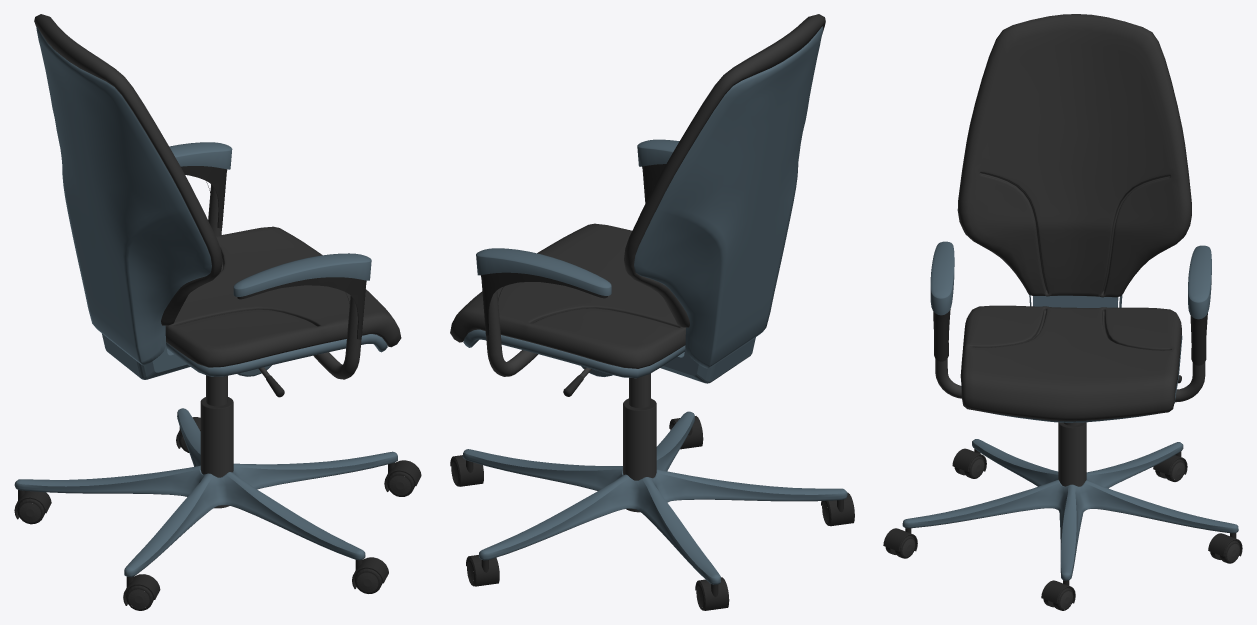
File: chair4.glb
The picture shows the model from 3 angles, left to right: view 1: azimuth 30°, elevation 25°; view 2: azimuth 150°, elevation 25°; view 3: azimuth 270°, elevation 25°; orthographic projection. The views are drawn at different scales.
Parts seen in each view (by area): view 1: Obj3d66-9787757-239-827; view 2: Obj3d66-9787757-239-827; view 3: Obj3d66-9787757-239-827.
Boxes of the visible parts, x1,y1,x2,y2 form: Obj3d66-9787757-239-827: [14, 14, 421, 610]; Obj3d66-9787757-239-827: [450, 14, 854, 610]; Obj3d66-9787757-239-827: [883, 14, 1242, 610].
Bounding box in the file's own units: 0.802 × 1.15 × 0.8241.
